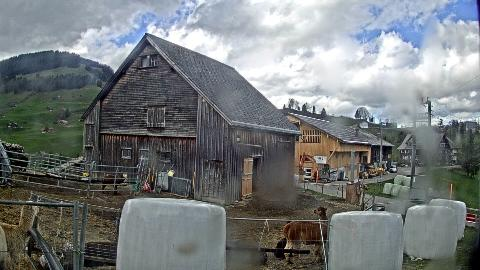car: (389, 166, 397, 172), (418, 160, 426, 166)
sheep: (283, 216, 343, 264), (0, 200, 40, 270), (70, 216, 122, 266), (274, 219, 296, 258), (100, 173, 128, 195), (314, 206, 334, 226), (12, 156, 28, 172)
